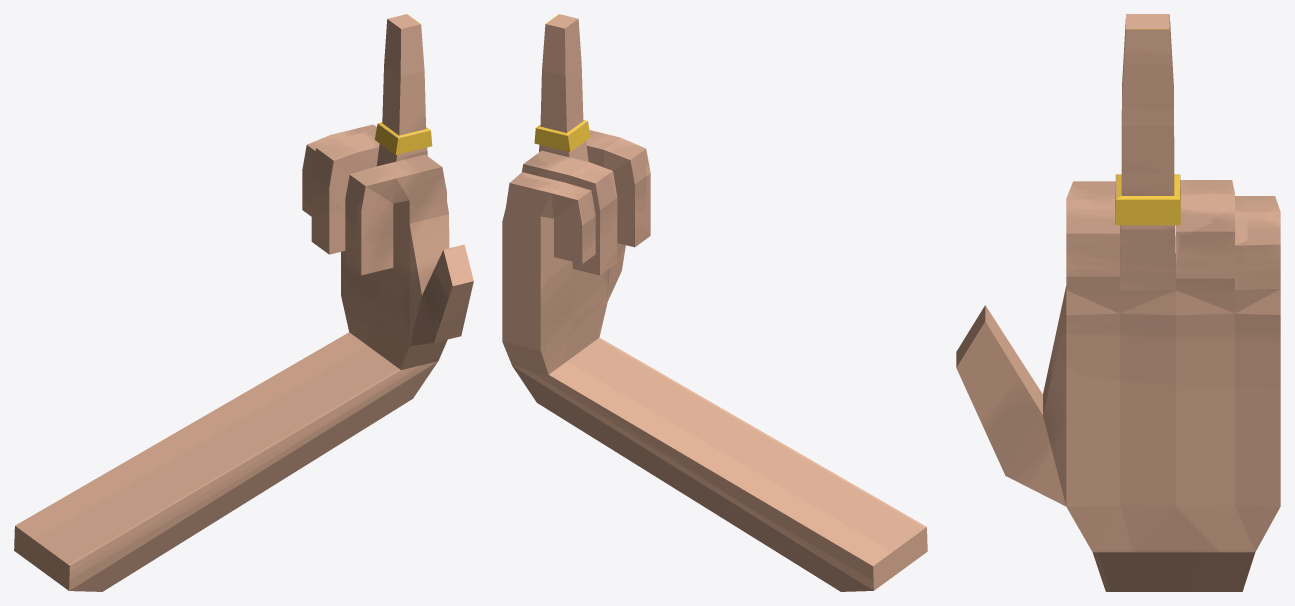
Rendered from hand.obj.
The picture shows the model from 3 angles, left to right: view 1: azimuth 30°, elevation 25°; view 2: azimuth 150°, elevation 25°; view 3: azimuth 270°, elevation 25°; orthographic projection. The views are drawn at different scales.
Parts seen in each view (by area): view 1: Cube; view 2: Cube; view 3: Cube.
Part boxes in pixels (box(x1,y1,x2,y2)): Cube: box(14, 14, 473, 591); Cube: box(502, 14, 927, 591); Cube: box(956, 14, 1280, 591).
Bounding box in the file's own units: 6.3 × 7.78 × 3.03.
Materials: 1 (1 with a texture image).
